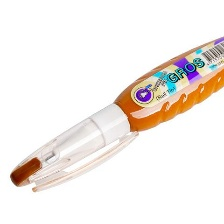correction_fluid: (7, 27, 224, 195)
